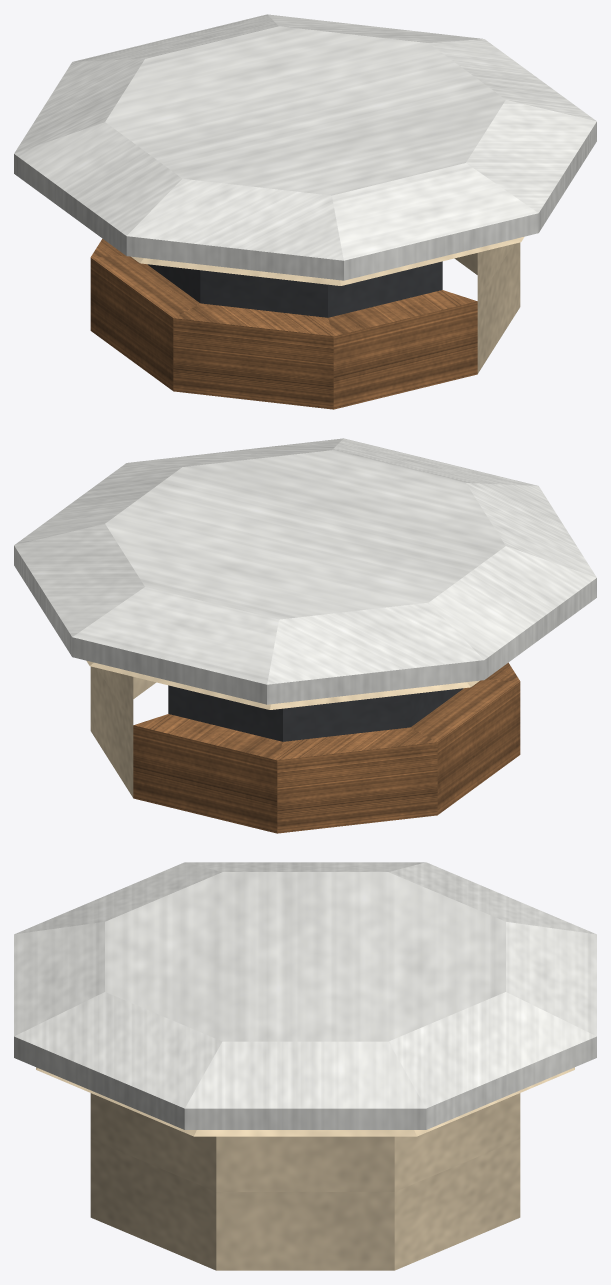
Rendered from SM_Morin_ChioscoOttagonale_v2_LOD1.fbx.
3 renders of one model, top to bottom at view 1: azimuth 30°, elevation 25°; view 2: azimuth 150°, elevation 25°; view 3: azimuth 270°, elevation 25°, orthographic. The views are drawn at different scales.
Visible parts, largest first — view 1: SM_Morin_ChioscoOttagonale_v2_LOD1; view 2: SM_Morin_ChioscoOttagonale_v2_LOD1; view 3: SM_Morin_ChioscoOttagonale_v2_LOD1.
Boxes of the visible parts, <box> form: SM_Morin_ChioscoOttagonale_v2_LOD1: <box>14,14,596,409</box>; SM_Morin_ChioscoOttagonale_v2_LOD1: <box>14,438,596,833</box>; SM_Morin_ChioscoOttagonale_v2_LOD1: <box>14,862,596,1270</box>.
Size of the model in its own units: 739 by 739 by 312.
2 materials, 2 textured.
